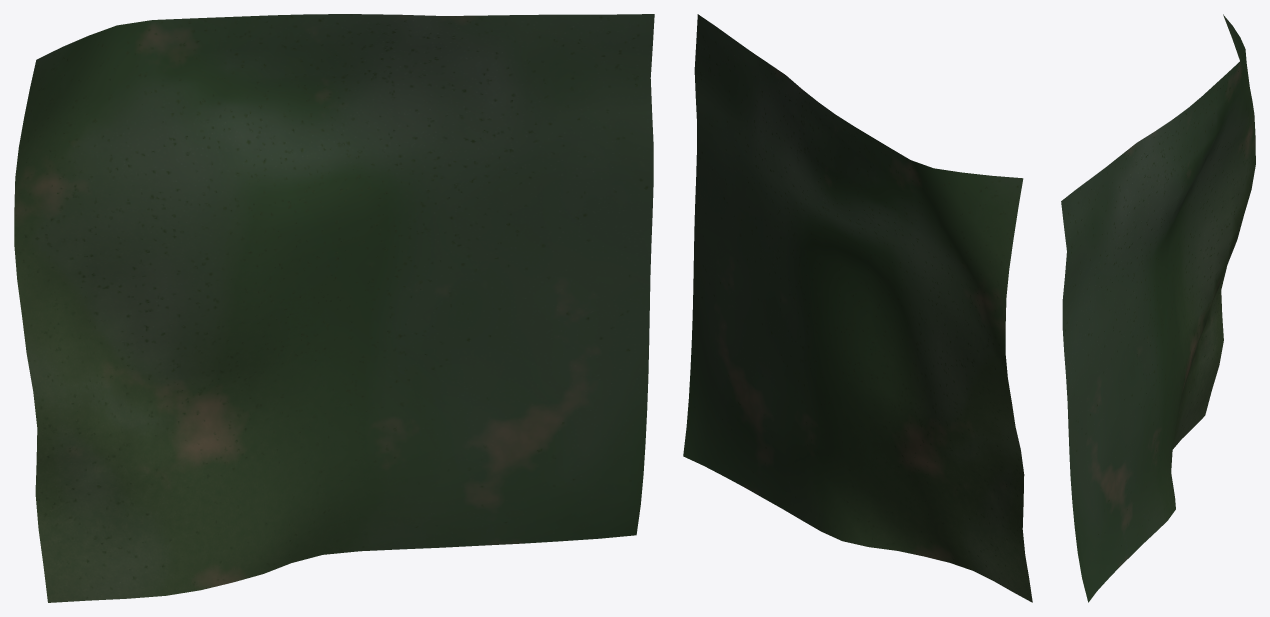
File: terrain_far_05_04.obj
3 renders of one model, left to right at view 1: azimuth 30°, elevation 25°; view 2: azimuth 150°, elevation 25°; view 3: azimuth 270°, elevation 25°, orthographic. The views are drawn at different scales.
Parts seen in each view (by area): view 1: terrain_far_05_04; view 2: terrain_far_05_04; view 3: terrain_far_05_04.
Part boxes in pixels (x1,y1,x2,y2): terrain_far_05_04: (14,14,654,602); terrain_far_05_04: (683,14,1032,602); terrain_far_05_04: (1061,14,1255,602).
Size of the model in its own units: 640 by 640 by 281.
Materials: 1 (1 with a texture image).
